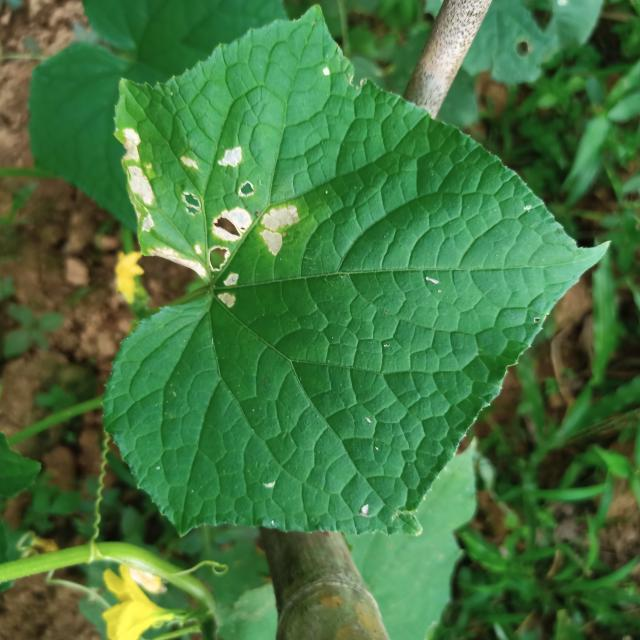disease_cucumber: (122, 128, 298, 306)
